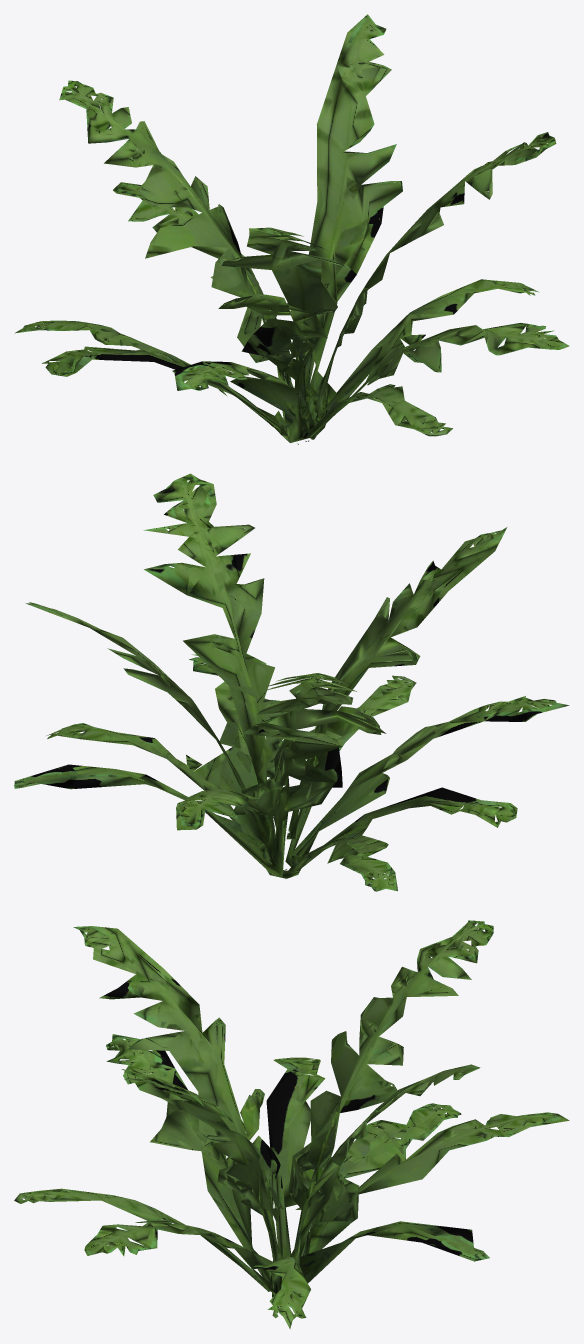
File: Fern_0616221228_texture.fbx
3 renders of one model, top to bottom at view 1: azimuth 30°, elevation 25°; view 2: azimuth 150°, elevation 25°; view 3: azimuth 270°, elevation 25°, orthographic. The views are drawn at different scales.
Parts seen in each view (by area): view 1: Mesh1; view 2: Mesh1; view 3: Mesh1.
Boxes of the visible parts, left/top/right/bottom form: Mesh1: left=14, top=14, right=569, bottom=444; Mesh1: left=14, top=473, right=569, bottom=891; Mesh1: left=14, top=920, right=569, bottom=1329.
Bounding box in the file's own units: 189 × 117 × 188.
1 material, 1 textured.
